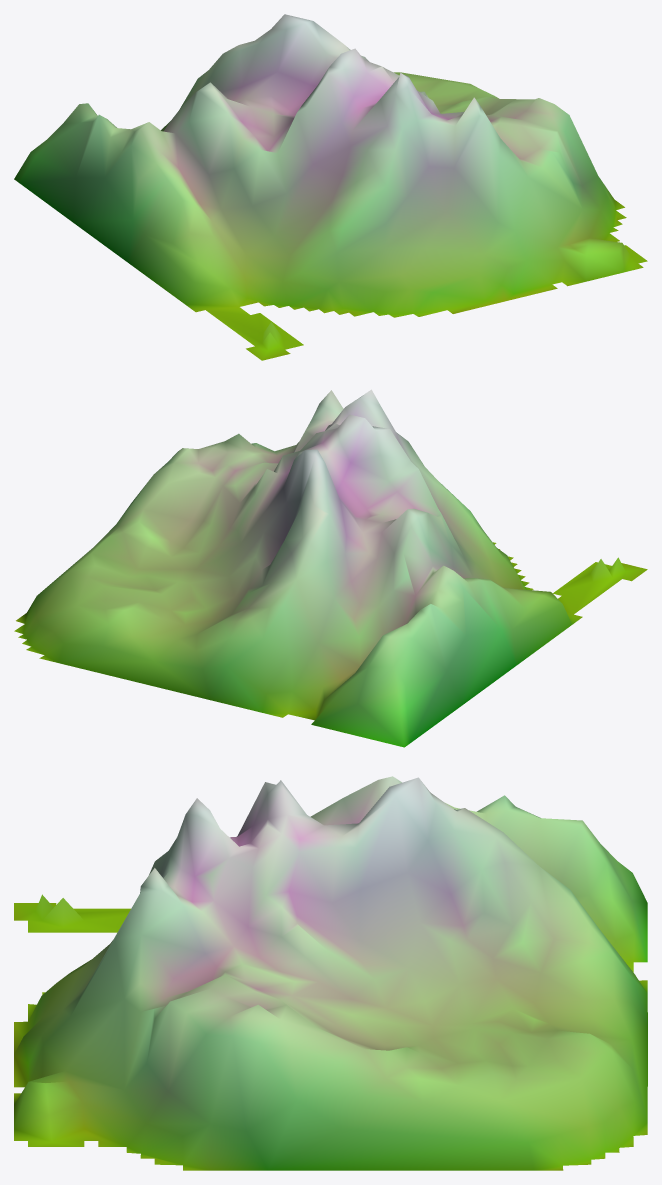
File: mountain_a.glb
3 views of the same model, one above another, from view 1: azimuth 30°, elevation 25°; view 2: azimuth 150°, elevation 25°; view 3: azimuth 270°, elevation 25° (orthographic). The views are drawn at different scales.
Visible parts, largest first — view 1: mountain_a; view 2: mountain_a; view 3: mountain_a.
Part boxes in pixels (<box>): mountain_a: <box>14,14,647,360</box>; mountain_a: <box>14,389,647,747</box>; mountain_a: <box>14,776,647,1170</box>.
Bounding box in the file's own units: 1 × 0.4169 × 1.
